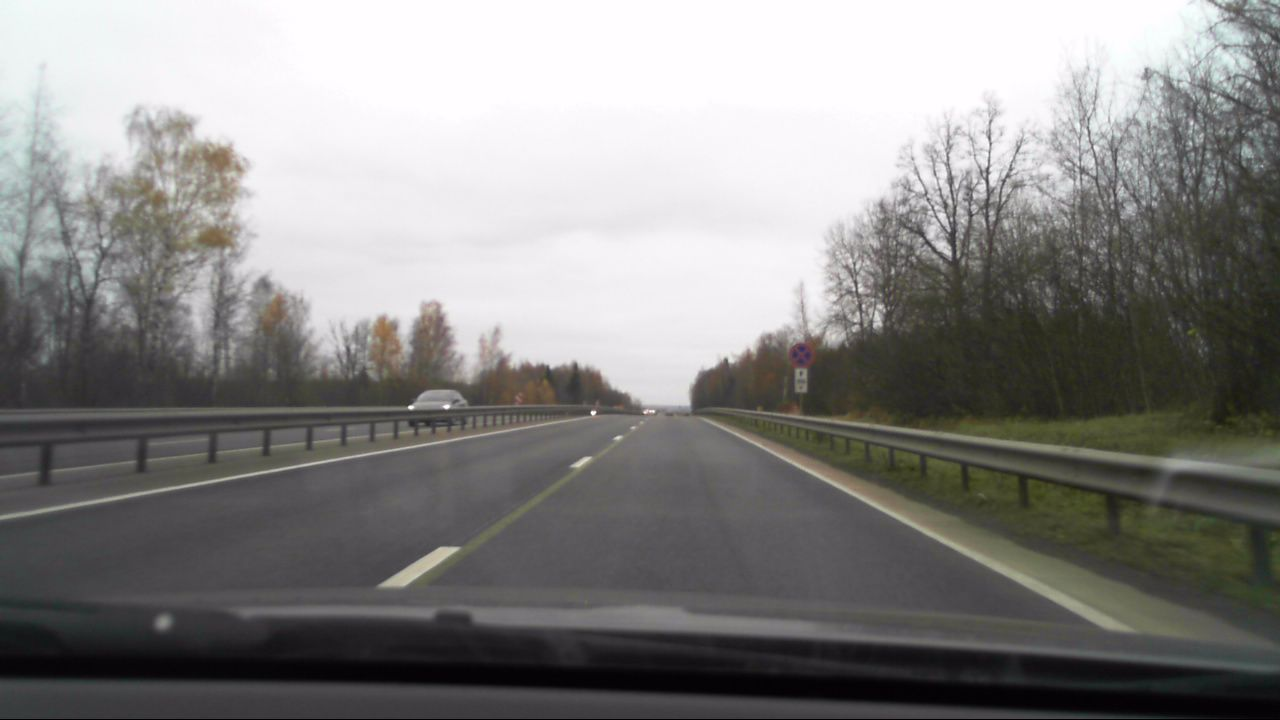No Parking: (788, 342, 812, 366)
